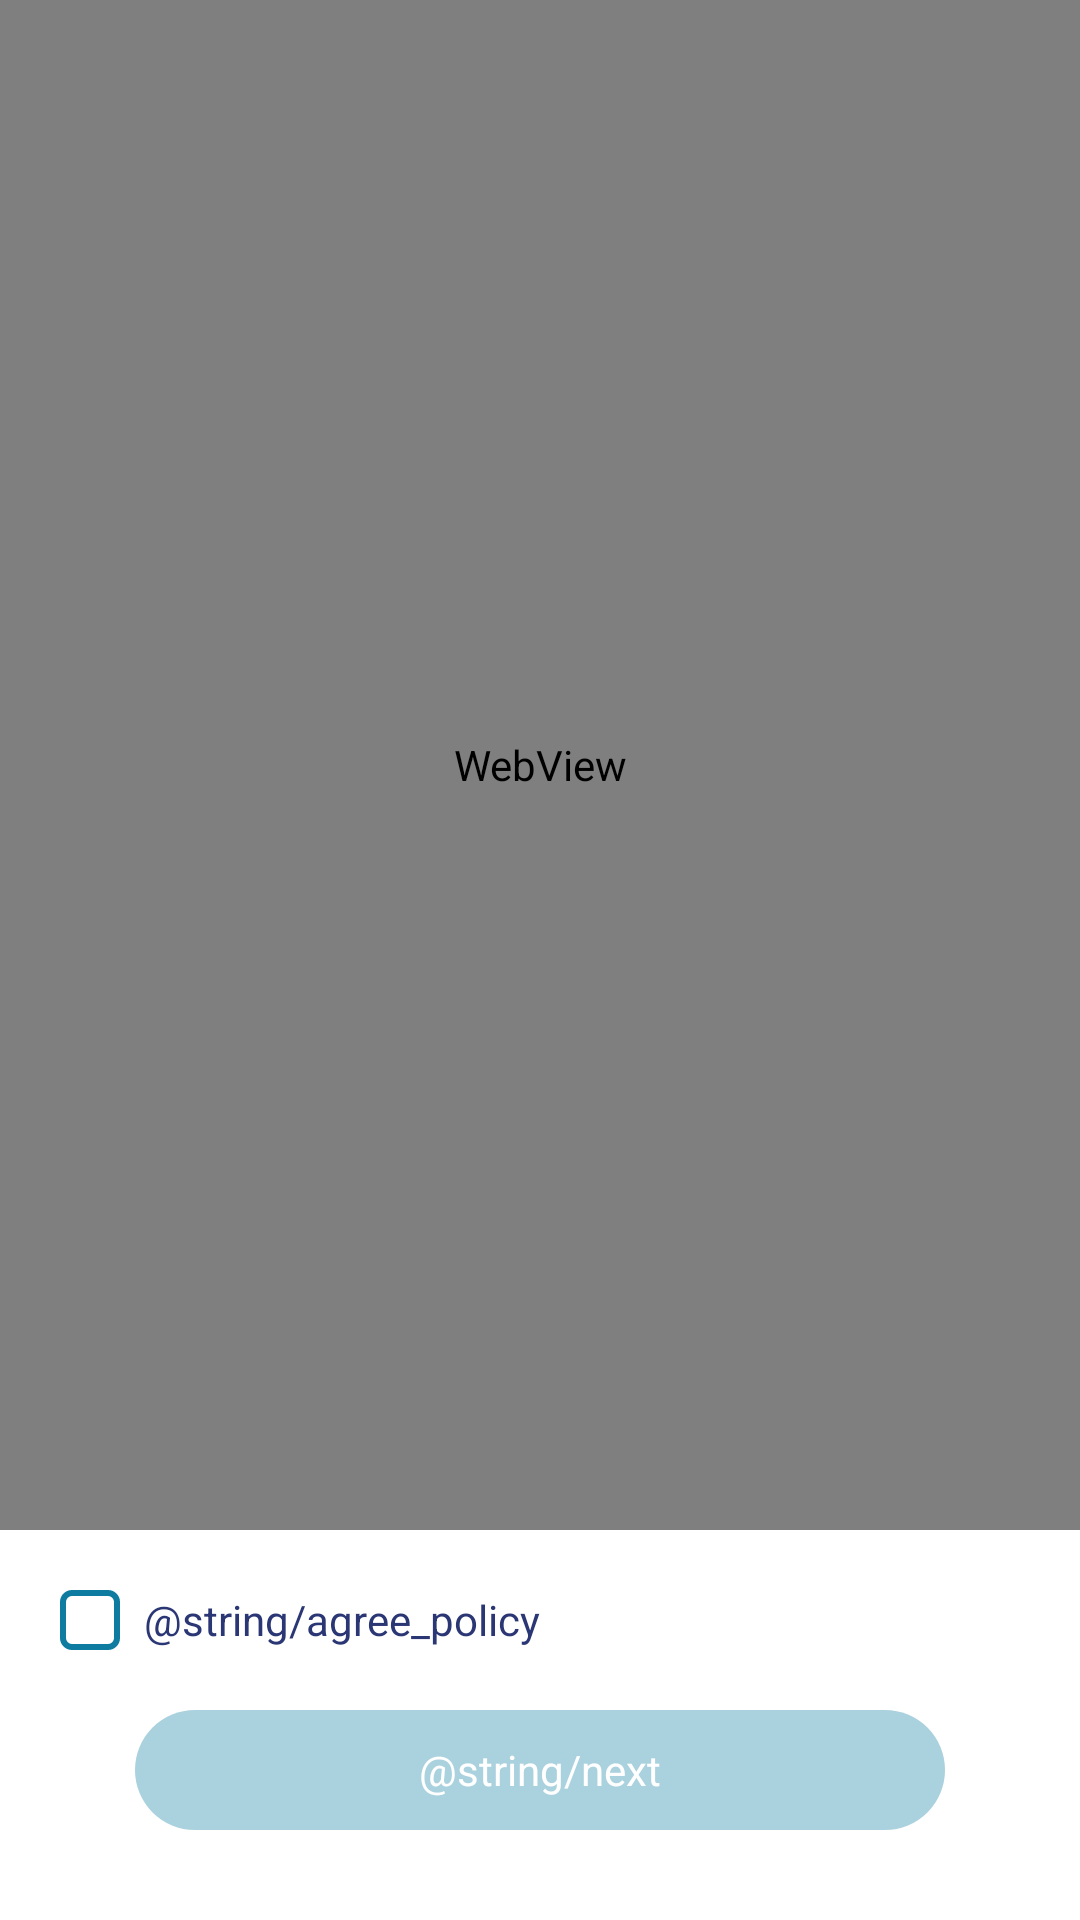

Named icons in this screenshot (1080 x 1920) and their centers, point (x, y):
checkbox: point (90, 1620)
